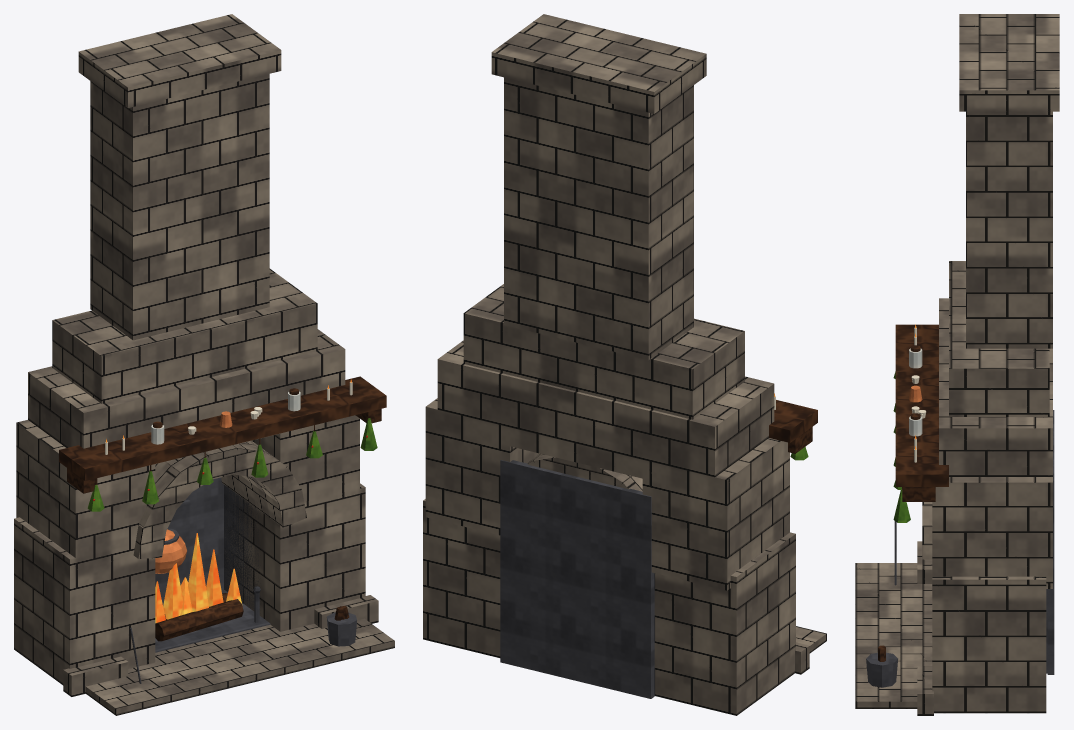
File: hearth.glb
3 renders of one model, left to right at view 1: azimuth 30°, elevation 25°; view 2: azimuth 150°, elevation 25°; view 3: azimuth 270°, elevation 25°, orthographic. The views are drawn at different scales.
Visible parts, largest first — view 1: hearth__K_stone, hearth__K_darkwood, hearth__K_iron, hearth__K_fire, hearth__K_herb, hearth__K_copper; view 2: hearth__K_stone, hearth__K_iron, hearth__K_darkwood; view 3: hearth__K_stone, hearth__K_darkwood, hearth__K_iron, hearth__K_ceramic, hearth__K_herb.
Part boxes in pixels (box(x1,y1,x2,y2)): hearth__K_stone: box(14, 14, 394, 715); hearth__K_darkwood: box(59, 376, 386, 641); hearth__K_iron: box(130, 477, 356, 683); hearth__K_fire: box(106, 379, 351, 623); hearth__K_herb: box(87, 418, 377, 511); hearth__K_copper: box(155, 411, 232, 573); hearth__K_stone: box(423, 14, 826, 715); hearth__K_iron: box(500, 460, 654, 698); hearth__K_darkwood: box(769, 400, 817, 453); hearth__K_stone: box(855, 14, 1059, 715); hearth__K_darkwood: box(878, 324, 948, 661); hearth__K_iron: box(866, 410, 1054, 687); hearth__K_ceramic: box(909, 348, 922, 436); hearth__K_herb: box(893, 371, 910, 522).
Size of the model in its own units: 5.4 by 9.68 by 3.05.
Materials: 11 (11 with a texture image).
